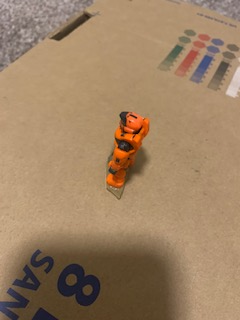soldier: (103, 109, 153, 191)
